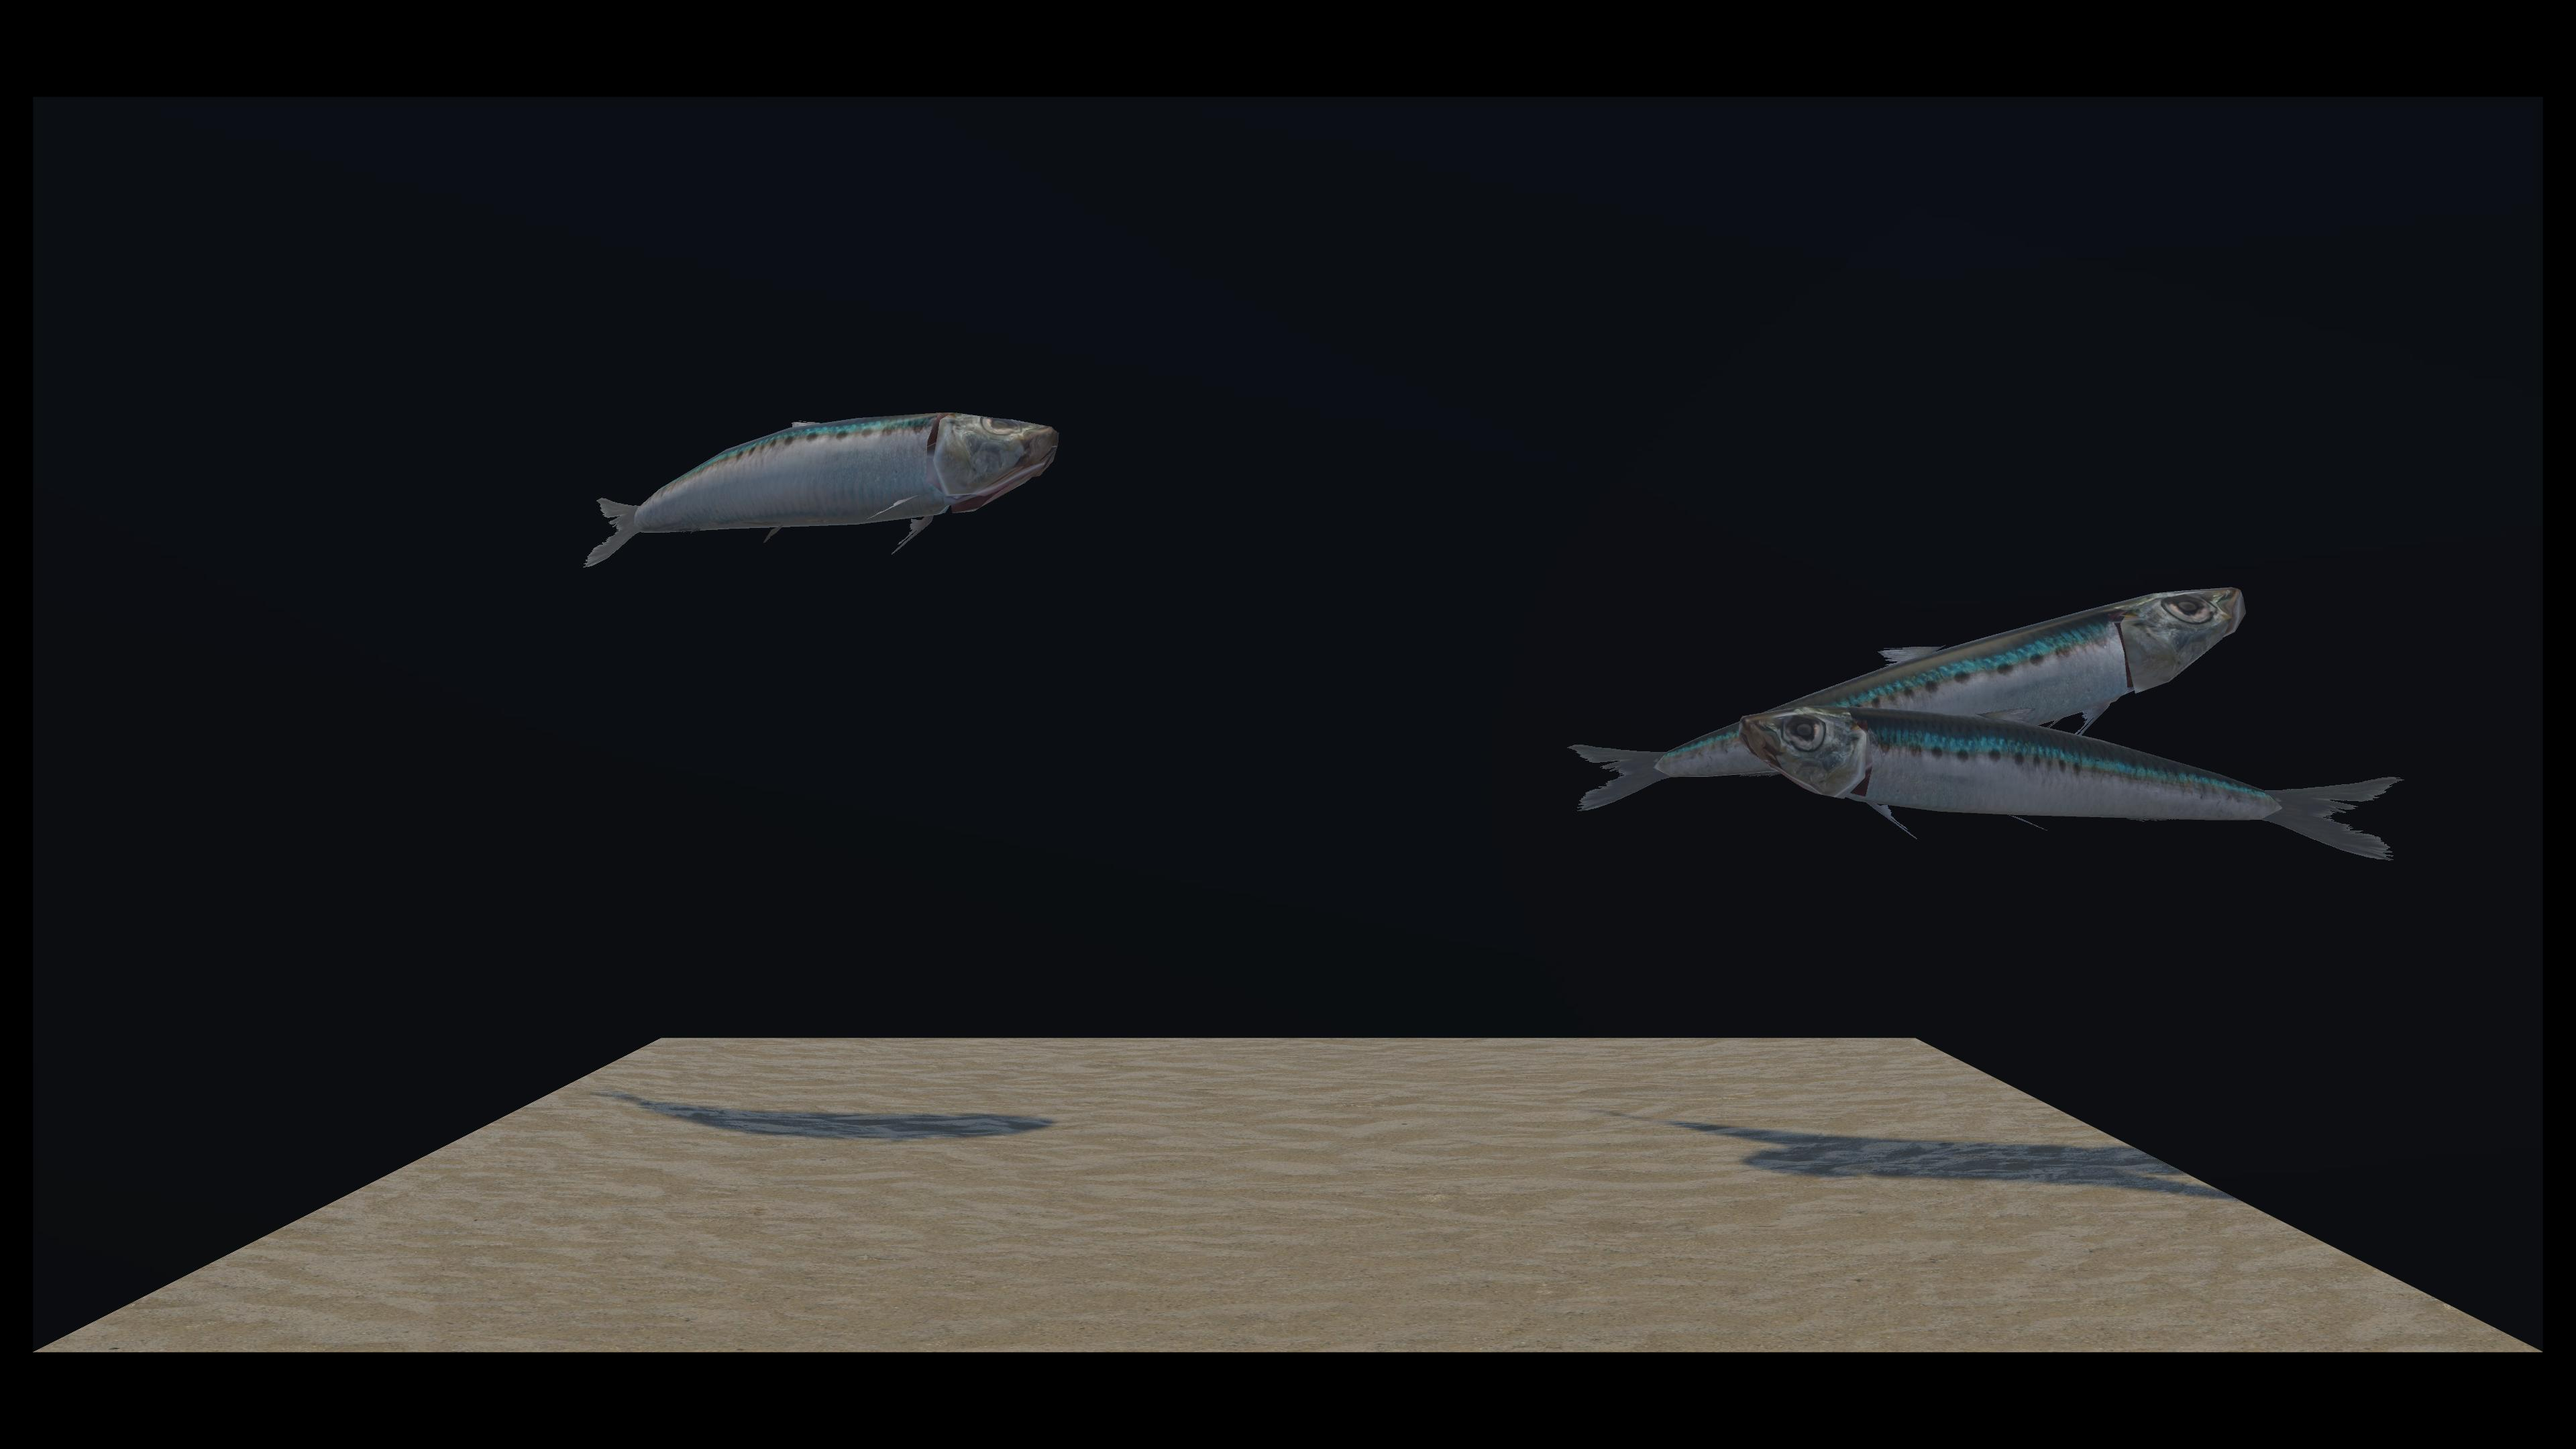Sardine_Front: (784, 343, 2392, 858), (901, 453, 2229, 810), (584, 368, 1053, 564)
